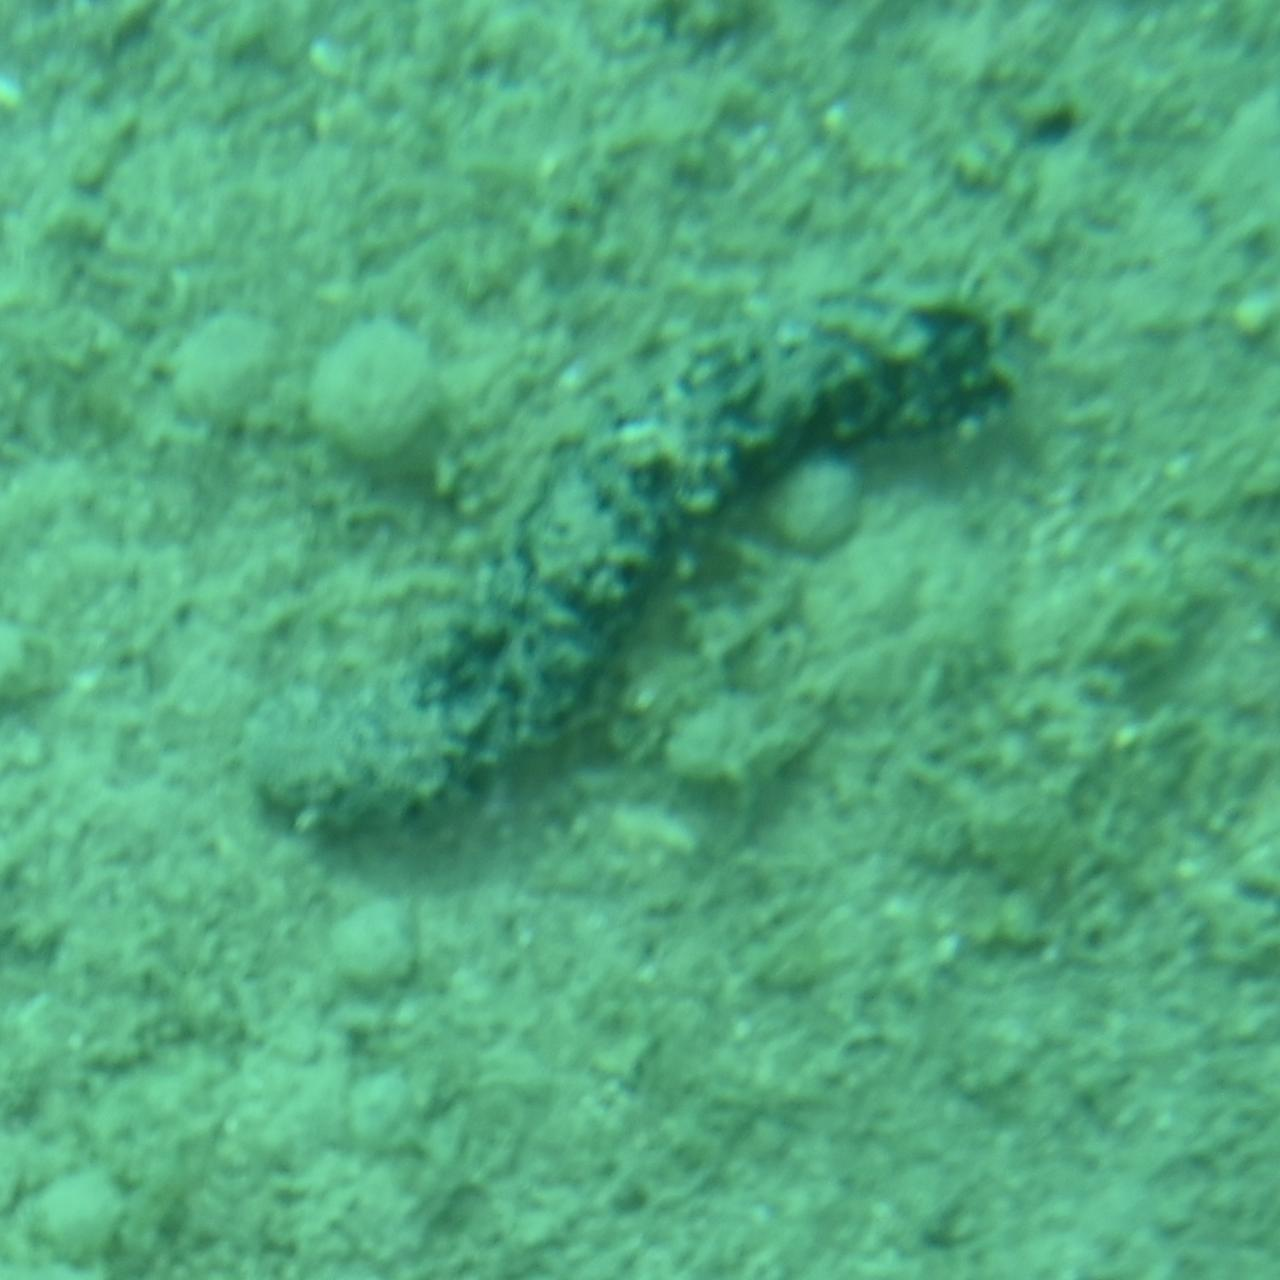Holothuria tubulosa: (241, 295, 1039, 855)
